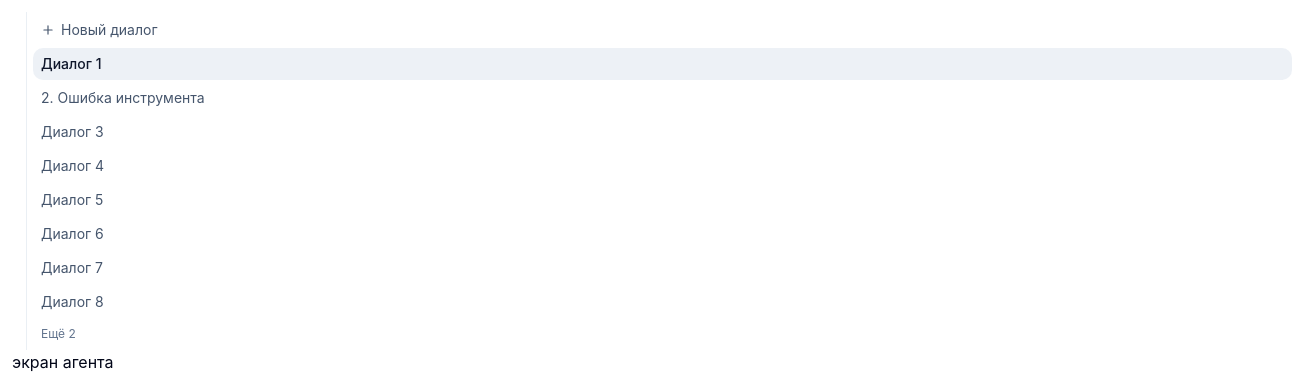
Scenario: AgentNavSessions — диалоги в основном меню (U-5) › переименование двойным кликом уходит PATCH-ем
Double-click the button "2. Ошибка инструмента" at (123, 98), box [41,88,1284,108]
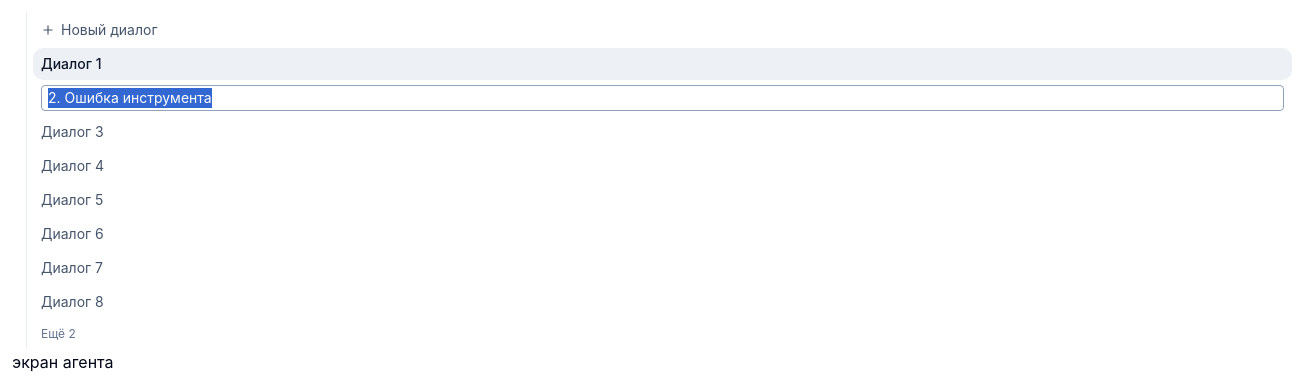
Replace the text in the field named "Название диалога" with "2. Ошибка" at (662, 98), box [41,85,1284,111]
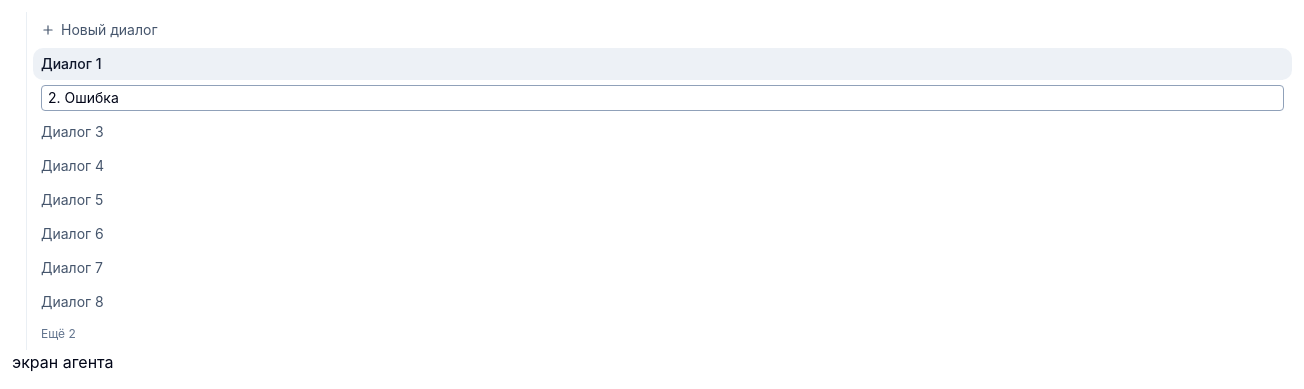
Press Enter in the field named "Название диалога", box [41,85,1284,111]
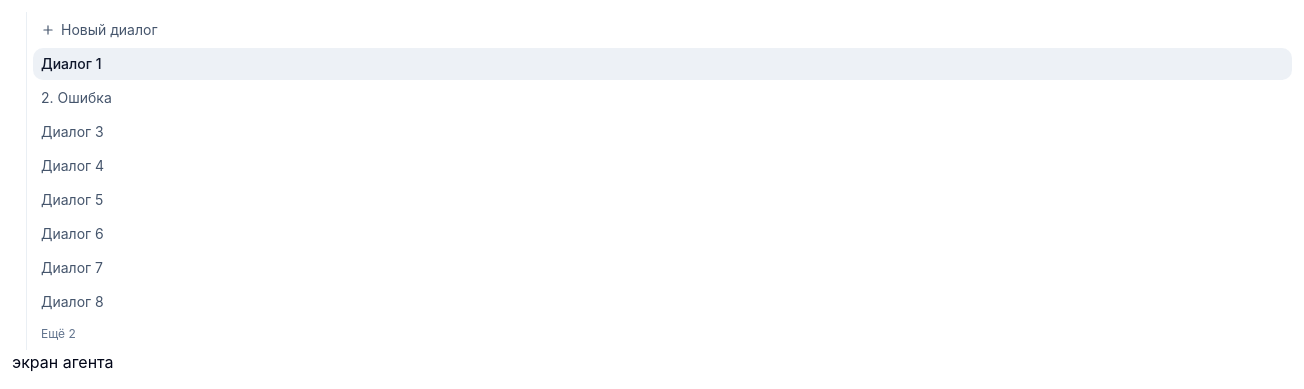
Now the button "2. Ошибка" is shown, box [41,88,1284,108]
